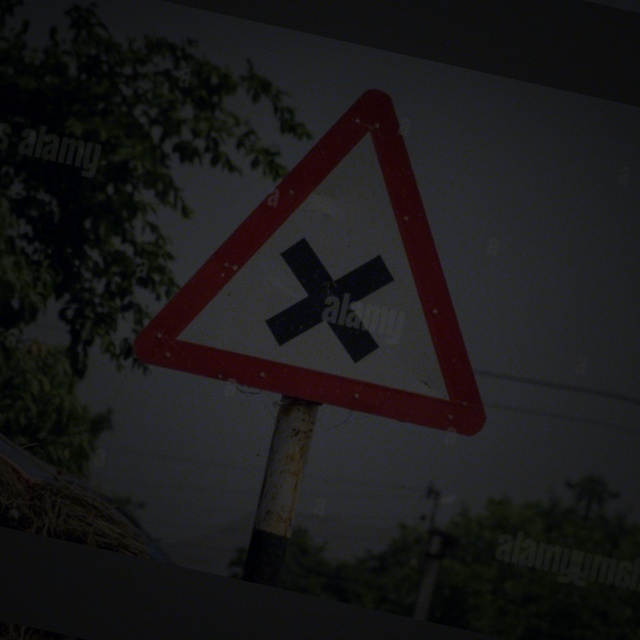Cross_Road: (129, 47, 555, 438)
